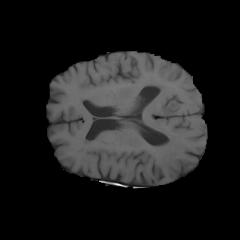glioma: (157, 136, 185, 169)
